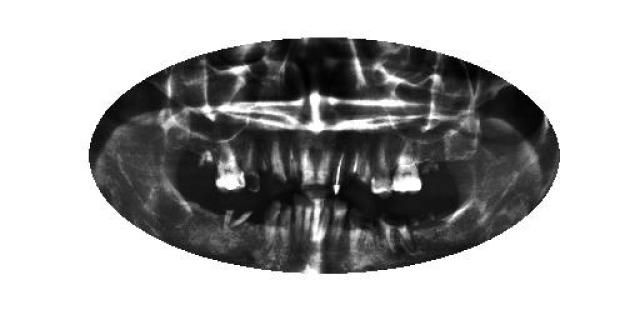Cavity: (377, 206, 418, 256), (268, 142, 288, 192), (264, 198, 284, 242), (224, 204, 255, 232), (346, 199, 362, 250), (360, 202, 375, 254), (245, 146, 259, 192), (278, 202, 294, 242), (198, 144, 216, 178), (288, 142, 300, 186), (349, 146, 361, 182)
Implant: (332, 153, 348, 195)
